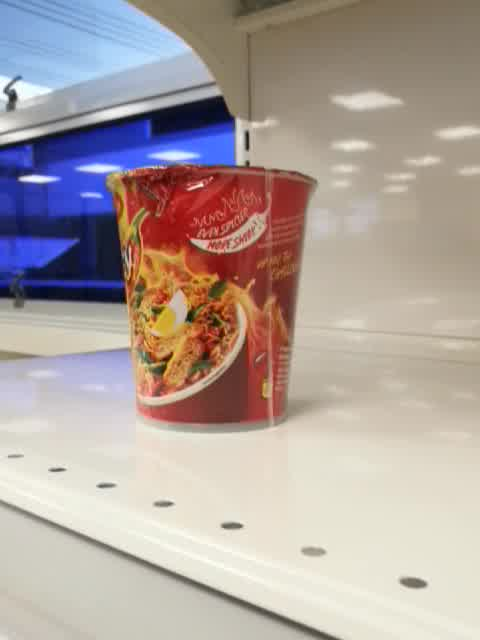maggi: (105, 164, 321, 434)
